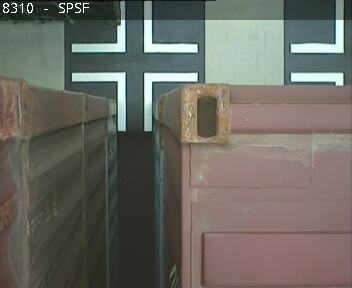groundmarker_1: (71, 70, 198, 130), (71, 1, 197, 53), (291, 1, 345, 87)
